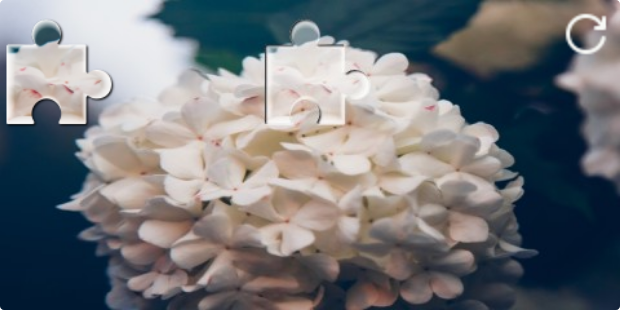target: (265, 19, 370, 125)
